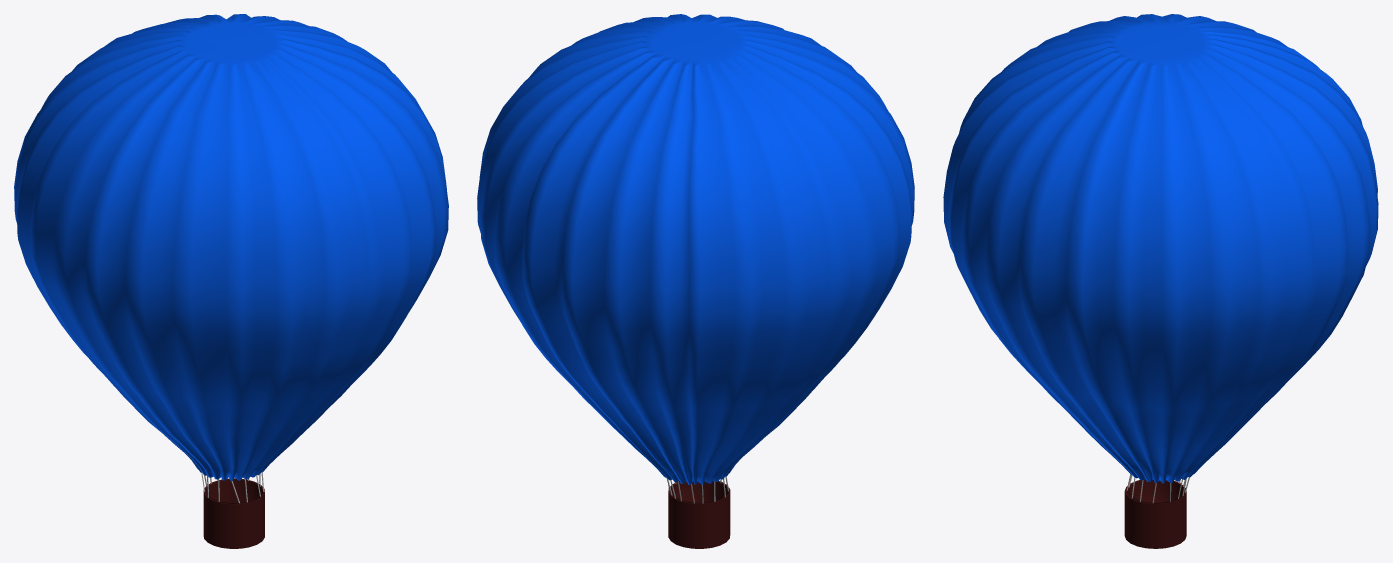
Rendered from balloon.fbx.
The picture shows the model from 3 angles, left to right: view 1: azimuth 30°, elevation 25°; view 2: azimuth 150°, elevation 25°; view 3: azimuth 270°, elevation 25°; orthographic projection.
Visible parts, largest first — view 1: pSphere2; view 2: pSphere2; view 3: pSphere2.
Boxes of the visible parts, x1,y1,x2,y2 form: pSphere2: (14,14,448,548); pSphere2: (477,14,914,548); pSphere2: (943,14,1378,548).
Bounding box in the file's own units: 4.39 × 5.47 × 4.37.
